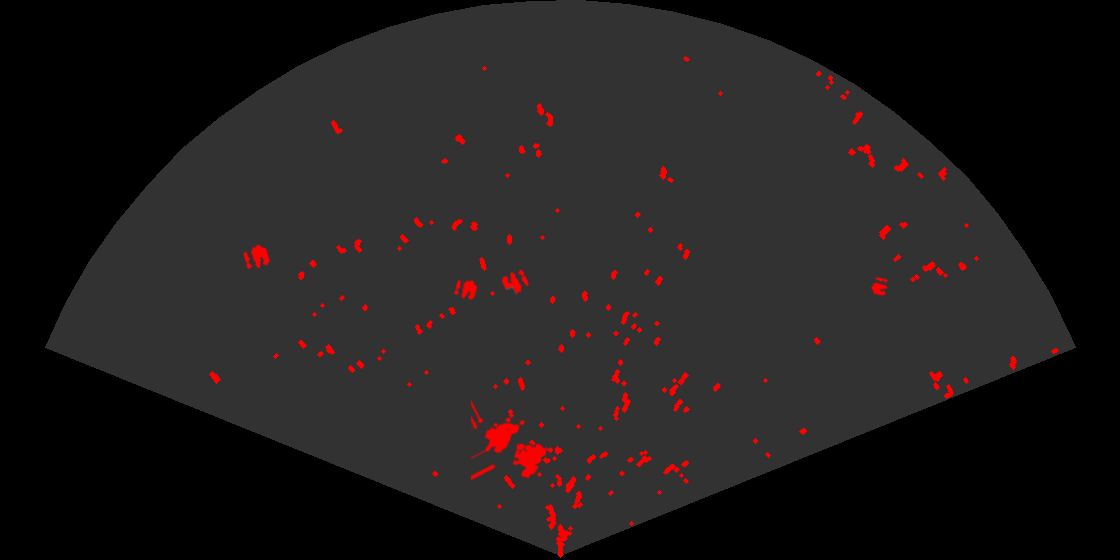ball: (500, 268, 530, 296), (242, 243, 271, 271), (452, 278, 479, 302), (870, 275, 890, 298)
cage: (471, 398, 548, 482)
